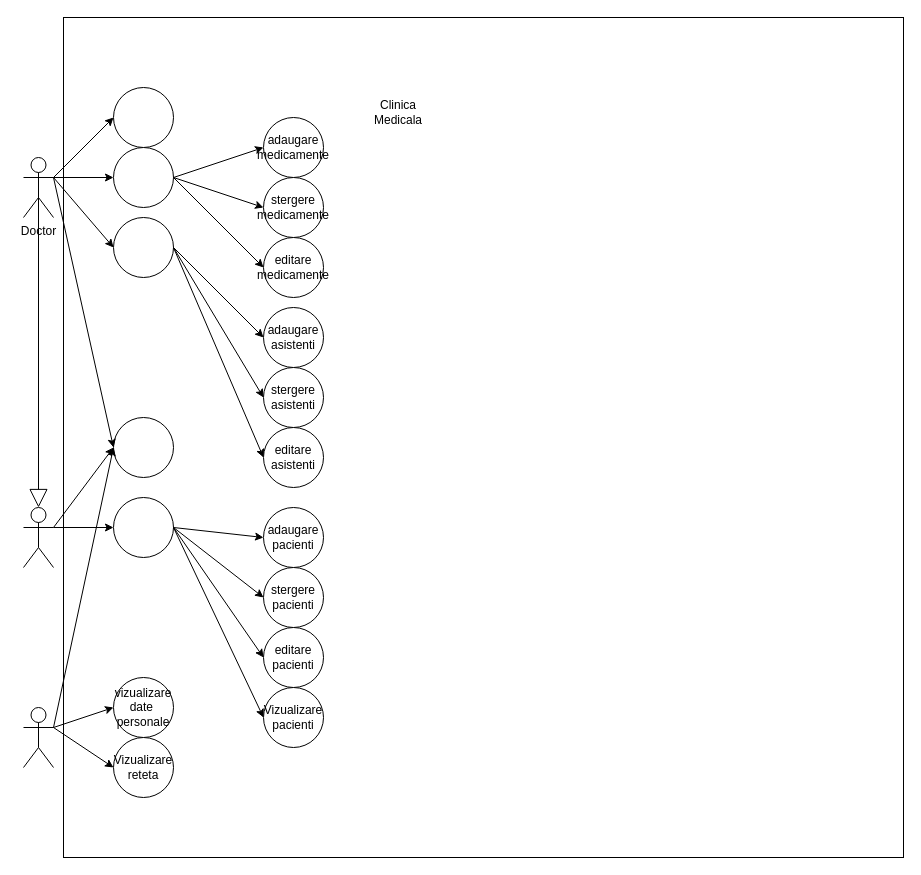
Some shapes in this 921 by 875 pixel diagram are drawn without their labels. Here are the shapes that lost their labels. From the top down, the centre of each, then its label:
the point at 143,117: Creare reteta
the point at 143,177: Gestionare medicamente
the point at 143,247: gestionare asistenti
the point at 143,447: Login
the point at 38,537: Asistent
the point at 143,527: gestionare pacienti
the point at 38,737: Pacient
